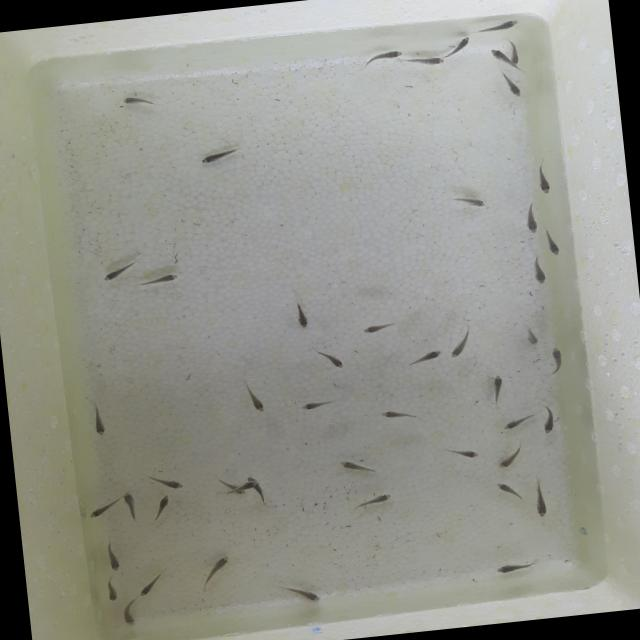fingerling: (280, 578, 322, 608), (443, 326, 475, 361), (195, 144, 242, 167), (527, 485, 556, 522), (240, 378, 268, 416), (350, 491, 396, 514), (100, 258, 143, 282), (312, 342, 346, 372), (116, 90, 159, 112), (491, 558, 538, 578), (203, 553, 232, 585), (403, 348, 445, 369), (531, 160, 554, 198), (497, 68, 524, 100), (474, 18, 522, 36), (538, 227, 564, 260), (138, 268, 180, 288), (364, 48, 406, 68), (150, 472, 188, 494), (148, 493, 174, 524), (545, 342, 567, 378), (290, 298, 313, 332), (443, 443, 482, 463), (526, 258, 550, 290), (520, 202, 542, 236), (85, 498, 122, 518), (102, 541, 124, 574), (487, 371, 507, 407), (121, 489, 141, 525), (494, 446, 524, 470), (298, 394, 334, 414), (449, 194, 488, 212), (408, 52, 447, 70), (135, 573, 163, 598), (538, 406, 561, 436), (89, 400, 107, 438), (493, 479, 522, 502), (498, 414, 534, 432), (362, 319, 398, 336), (339, 460, 376, 476), (448, 34, 472, 58), (222, 479, 260, 494), (120, 597, 136, 630), (103, 576, 120, 604), (380, 407, 416, 420), (483, 46, 508, 64), (523, 323, 540, 349), (508, 44, 522, 68)
